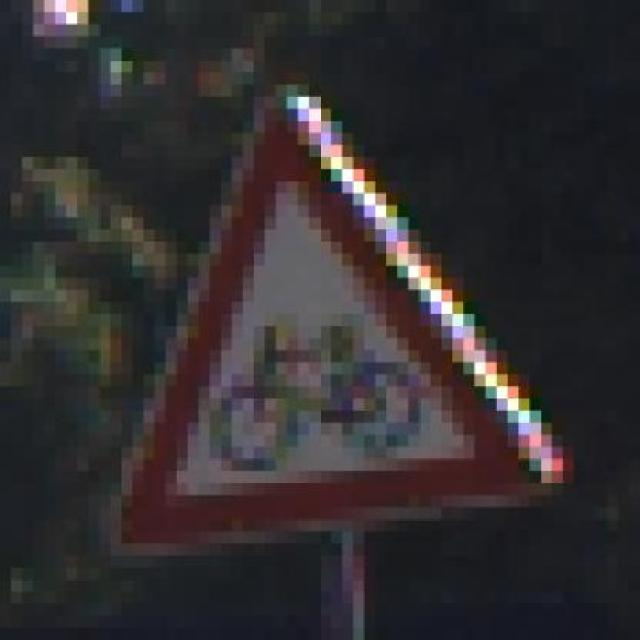CYCLE ROUTE AHEAD WARNING: (77, 72, 585, 543)
